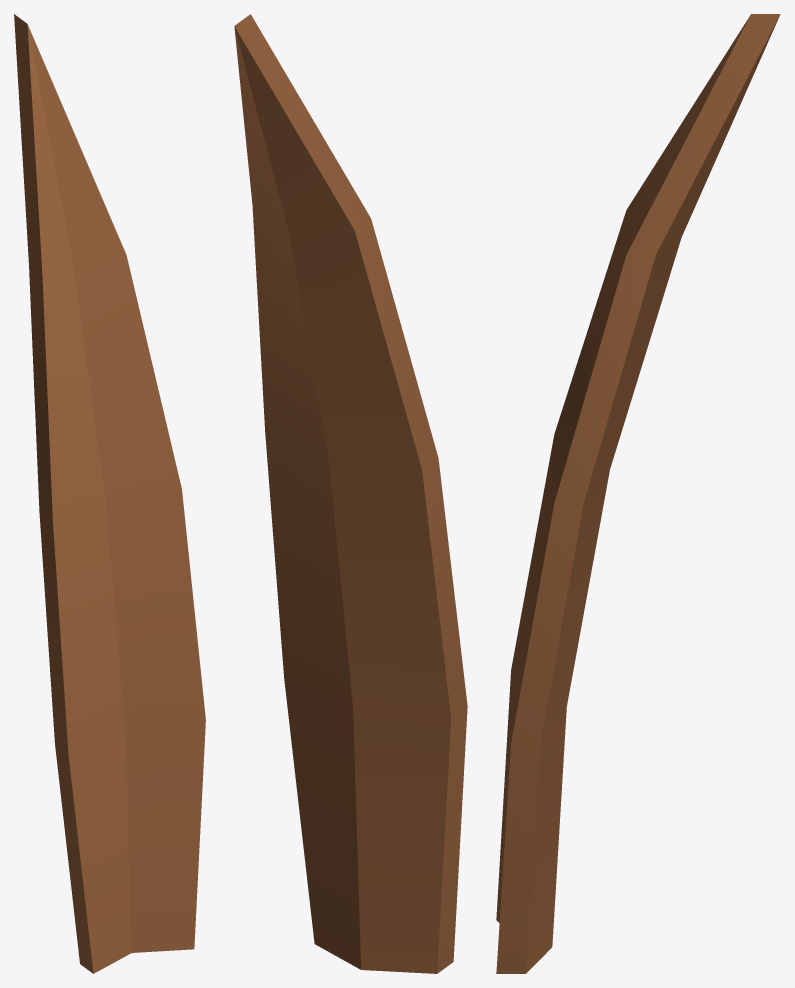
Rendered from itch_kaykit_forest_grass_2_mesh.glb.
The picture shows the model from 3 angles, left to right: view 1: azimuth 30°, elevation 25°; view 2: azimuth 150°, elevation 25°; view 3: azimuth 270°, elevation 25°; orthographic projection. The views are drawn at different scales.
Parts seen in each view (by area): view 1: Grass_2_Mesh; view 2: Grass_2_Mesh; view 3: Grass_2_Mesh.
Boxes of the visible parts, left/top/right/bottom form: Grass_2_Mesh: left=14, top=14, right=205, bottom=973; Grass_2_Mesh: left=234, top=14, right=467, bottom=973; Grass_2_Mesh: left=496, top=14, right=780, bottom=973.
Size of the model in its own units: 0.3122 by 1.85 by 0.5108.
